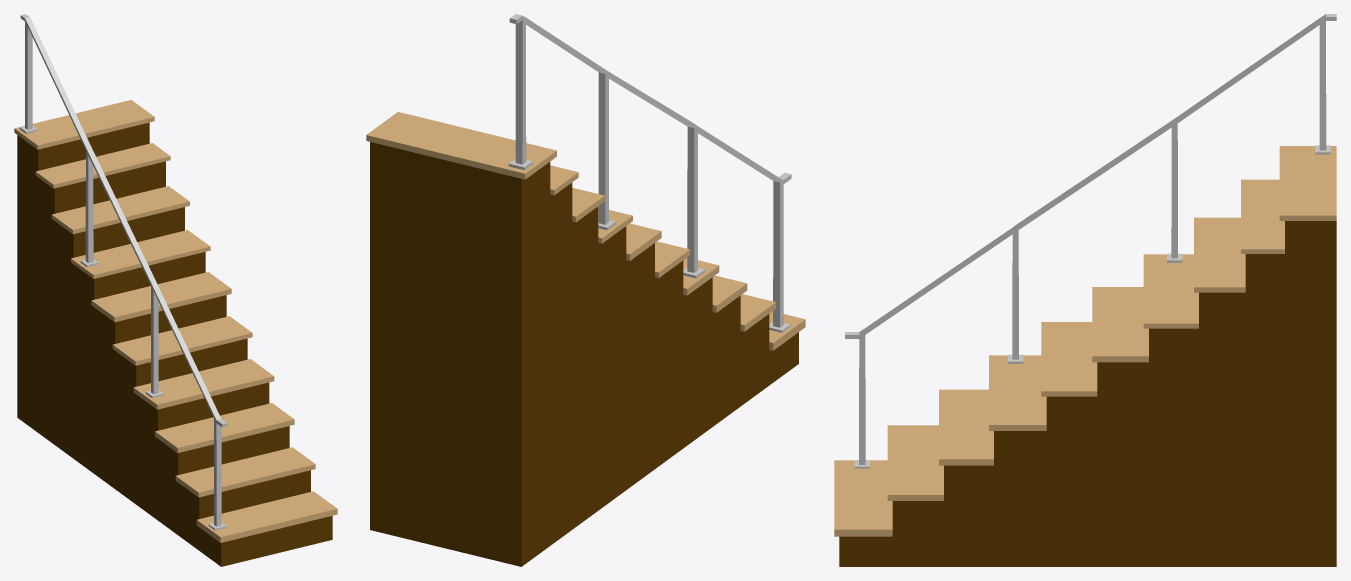
The model's file is R_Stairs.fbx.
The picture shows the model from 3 angles, left to right: view 1: azimuth 30°, elevation 25°; view 2: azimuth 150°, elevation 25°; view 3: azimuth 270°, elevation 25°; orthographic projection. The views are drawn at different scales.
Visible parts, largest first — view 1: R_Stairs; view 2: R_Stairs; view 3: R_Stairs.
Part boxes in pixels (x1=…): R_Stairs: x1=14, y1=14, x2=337, y2=566; R_Stairs: x1=366, y1=14, x2=805, y2=566; R_Stairs: x1=834, y1=14, x2=1336, y2=566.
Size of the model in its own units: 885 by 2703 by 2903.
